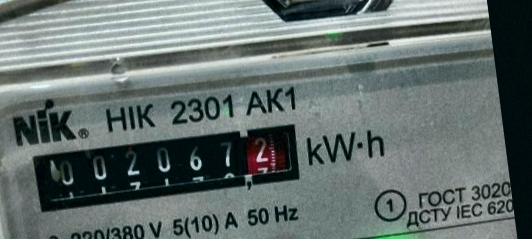0: (56, 155, 77, 186), (89, 149, 110, 180), (152, 141, 173, 171)
2: (250, 131, 272, 162), (122, 145, 143, 176)
6: (185, 140, 206, 171)
7: (218, 136, 237, 167)
screen: (18, 106, 318, 224)
